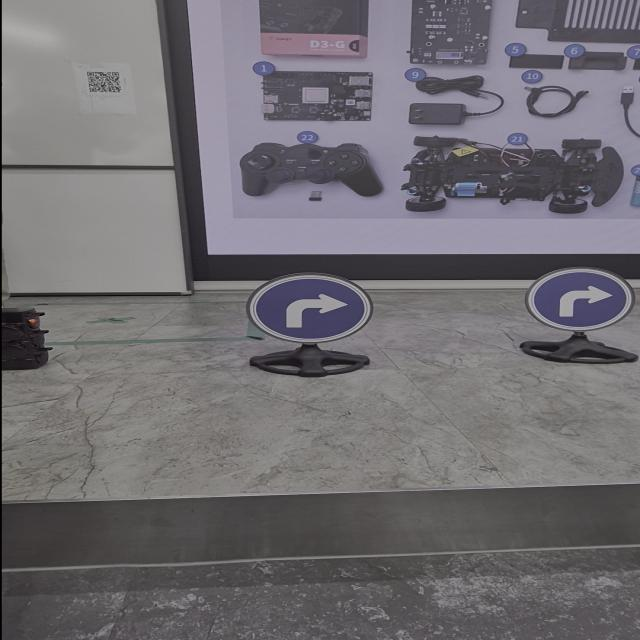right_dierection: (237, 271, 361, 343)
